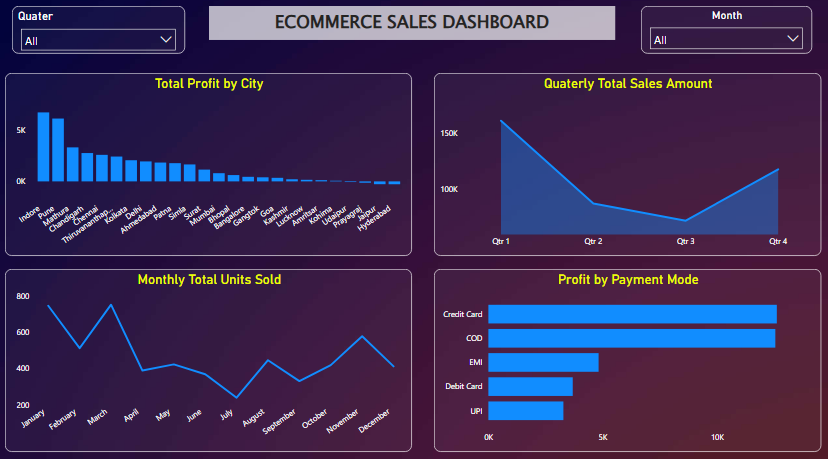

This screenshot's page, from the dashboard's own definition file:
{"tool":"powerbi","page":{"name":"Dashboard 2","canvas":[1280,720],"ordinal":1},"visuals":[{"type":"lineChart","title":"Monthly Total Units Sold","fields":{"Category":["Orders.Order Date.Variation.Date Hierarchy.Month"],"Y":["Sum(Details.Quantity)"]},"box":[16.8,418,623.2,280.2],"z":0},{"type":"columnChart","title":"Total Profit by City","fields":{"Category":["Orders.City"],"Y":["Sum(Details.Profit)"]},"box":[16.8,117.9,623.2,280.2],"z":1000},{"type":"stackedAreaChart","title":"Quaterly Total Sales Amount ","fields":{"Category":["Orders.Order Date.Variation.Date Hierarchy.Quarter"],"Y":["Sum(Details.Amount)"]},"box":[673.7,117.9,592.5,280.2],"z":2000},{"type":"barChart","title":"Profit by Payment Mode","fields":{"Category":["Details.PaymentMode"],"Y":["Sum(Details.Profit)"]},"box":[673.7,418,592.5,280.2],"z":3000},{"type":"textbox","box":[329.2,15.3,621.6,52.1],"z":4000},{"type":"slicer","title":"Month","fields":{"Values":["Orders.Order Date.Variation.Date Hierarchy.Month"]},"box":[990.6,15.3,261.8,73.5],"z":5000},{"type":"slicer","title":"Quater","fields":{"Values":["Orders.Order Date.Variation.Date Hierarchy.Quarter"]},"box":[27.6,15.3,264.9,73.5],"z":6000}]}

Visuals, with their boxes in screenshot pixels (x1, y1, x2, y2), scaled from the page's 1280x720 canvas onto the 828x459 screenshot:
"Monthly Total Units Sold" lineChart: <bbox>11, 266, 414, 445</bbox>
"Total Profit by City" columnChart: <bbox>11, 75, 414, 254</bbox>
"Quaterly Total Sales Amount " stackedAreaChart: <bbox>436, 75, 819, 254</bbox>
"Profit by Payment Mode" barChart: <bbox>436, 266, 819, 445</bbox>
textbox: <bbox>213, 10, 615, 43</bbox>
"Month" slicer: <bbox>641, 10, 810, 57</bbox>
"Quater" slicer: <bbox>18, 10, 189, 57</bbox>
